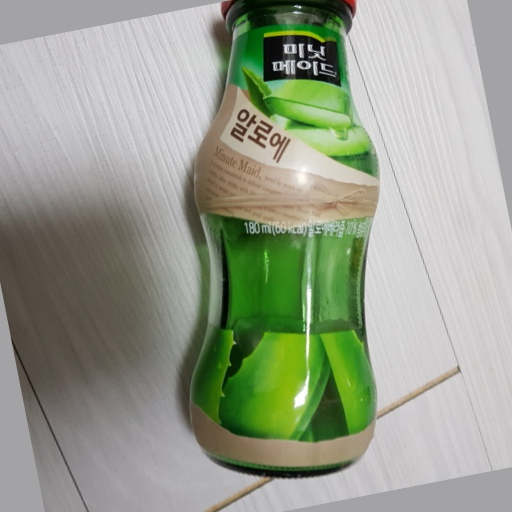Glass_4: (182, 1, 389, 475)
